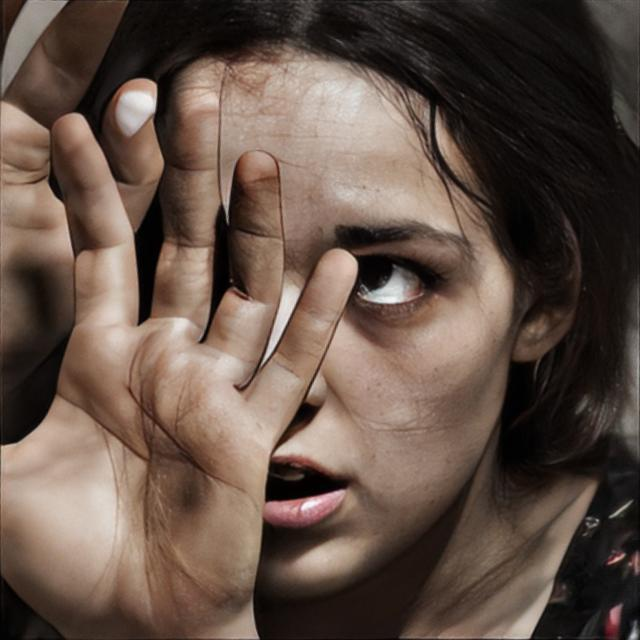fear: (133, 38, 516, 593)
